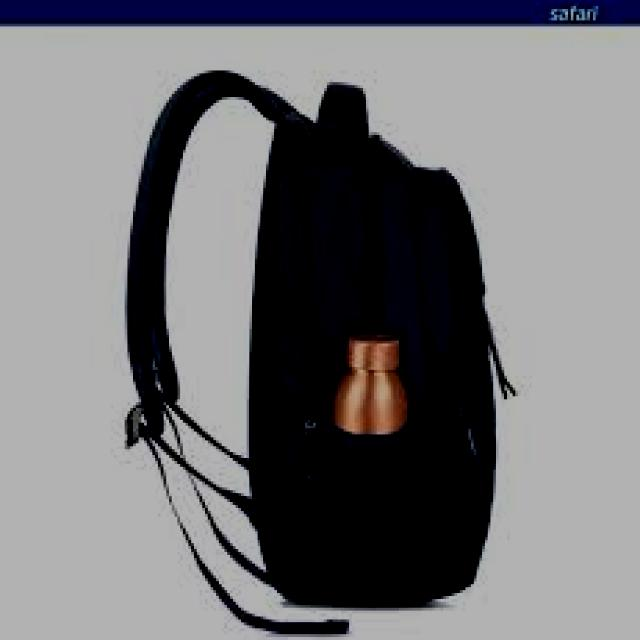backpack: (123, 69, 517, 635)
